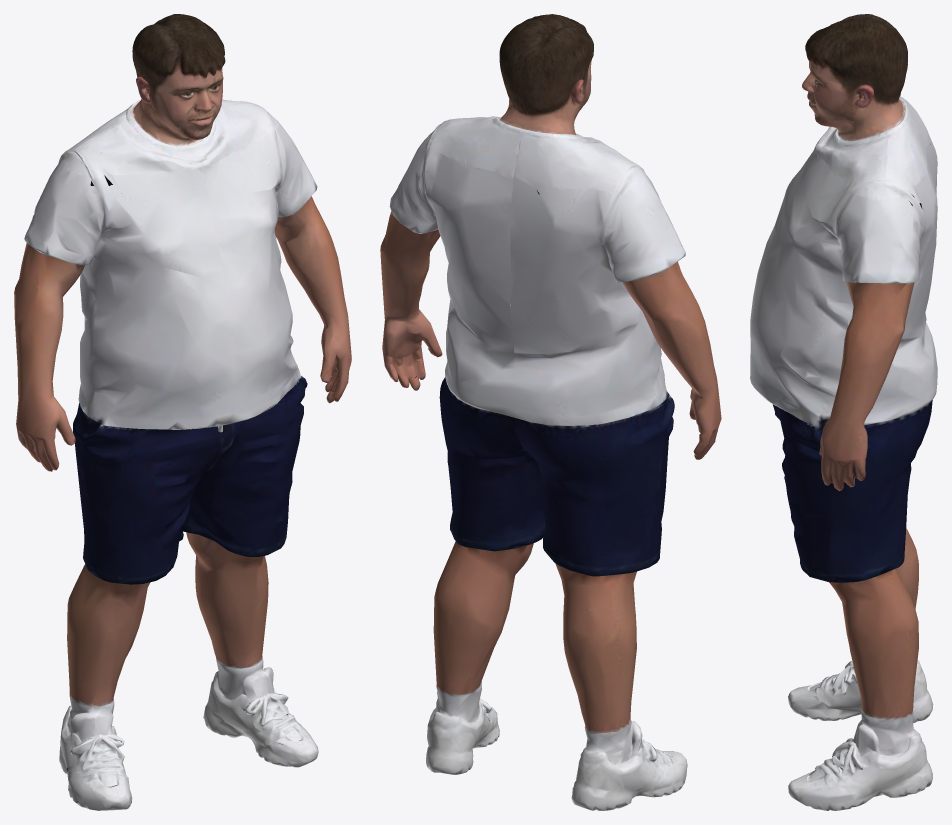
File: noah.glb
3 renders of one model, left to right at view 1: azimuth 30°, elevation 25°; view 2: azimuth 150°, elevation 25°; view 3: azimuth 270°, elevation 25°, orthographic. The views are drawn at different scales.
Parts seen in each view (by area): view 1: tommy; view 2: tommy; view 3: tommy.
Part boxes in pixels (bbox=[...]): tommy: bbox=[14, 14, 351, 810]; tommy: bbox=[380, 14, 721, 810]; tommy: bbox=[750, 14, 937, 810].
Size of the model in its own units: 0.7933 by 1.73 by 0.3994.
1 material, 1 textured.
